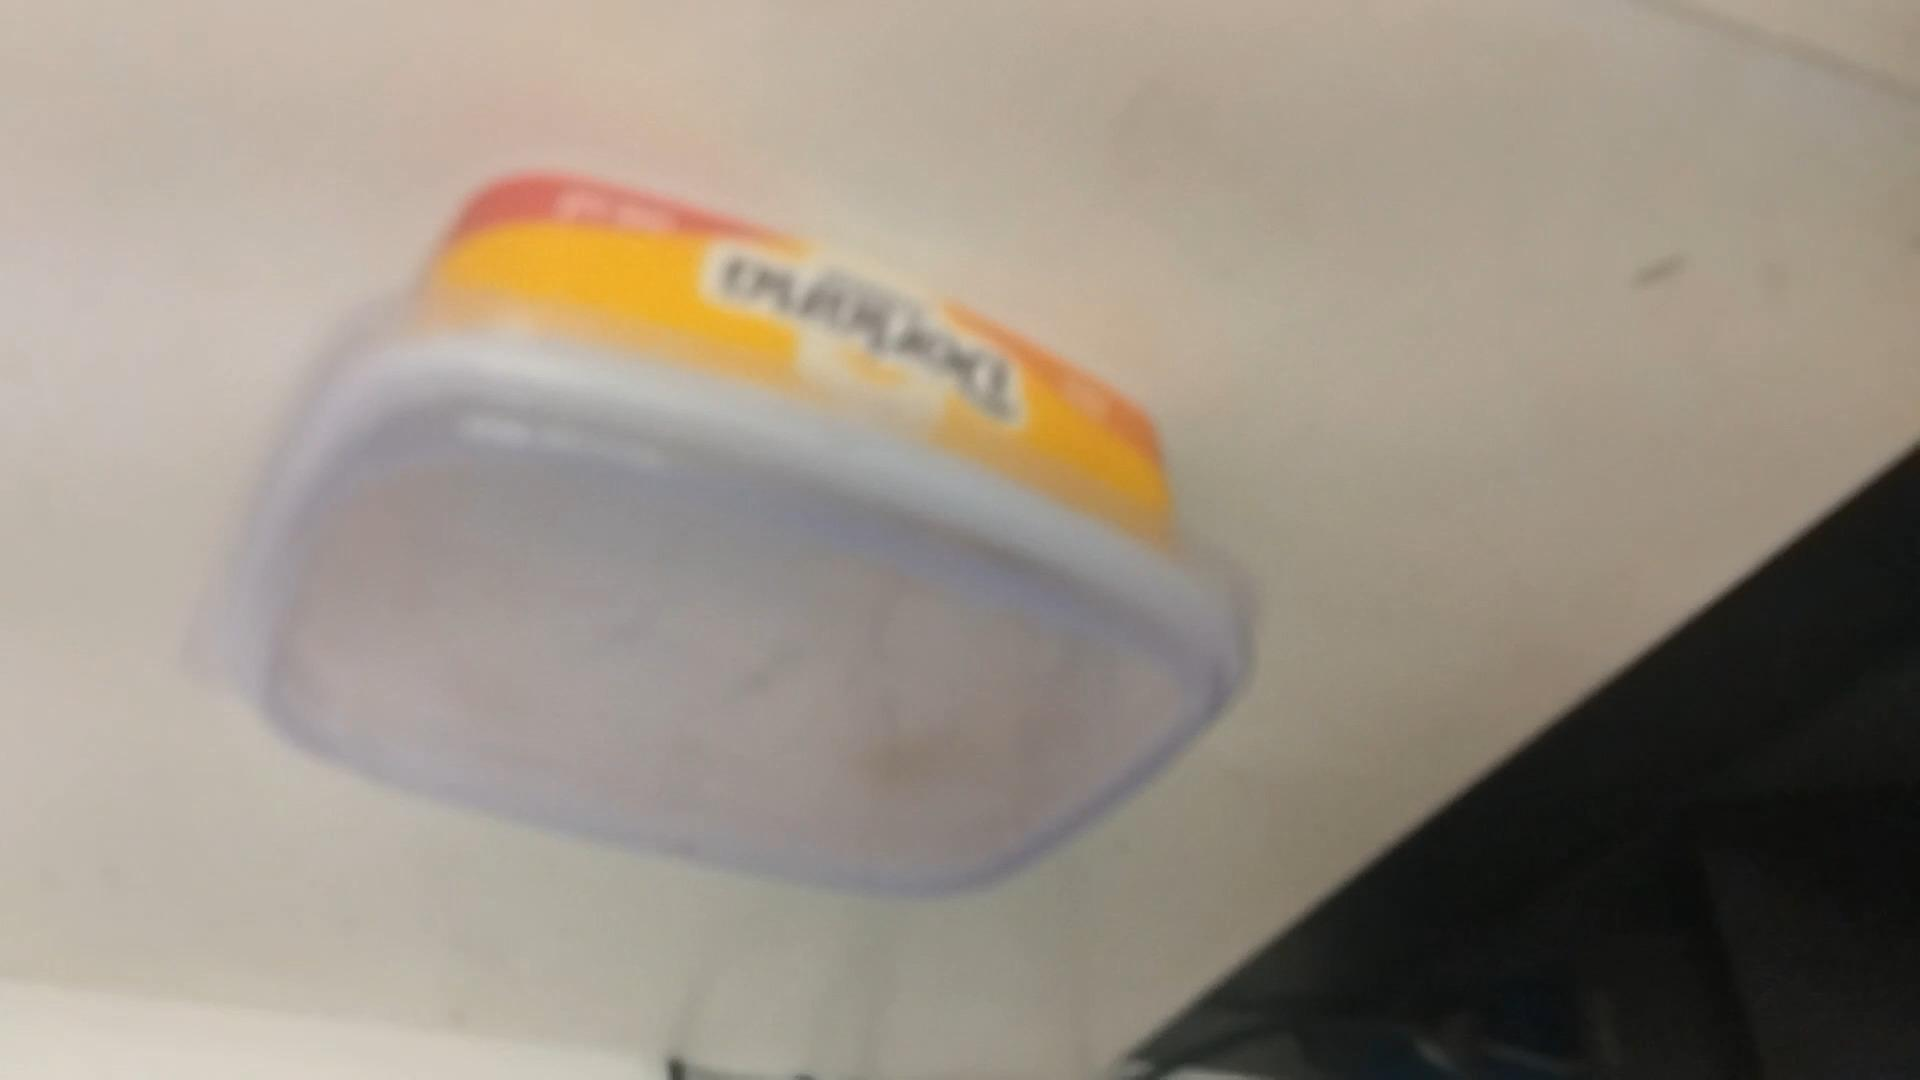butter: (186, 179, 1257, 911)
